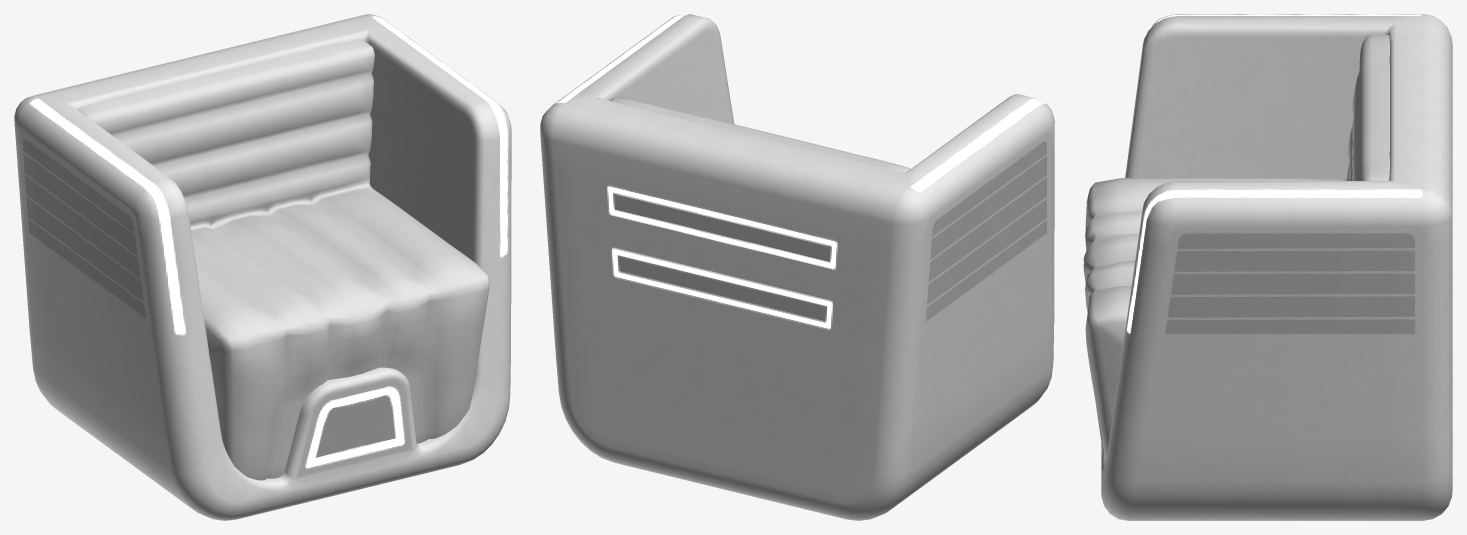
File: Sofa06_2.FBX
3 renders of one model, left to right at view 1: azimuth 30°, elevation 25°; view 2: azimuth 150°, elevation 25°; view 3: azimuth 270°, elevation 25°, orthographic. The views are drawn at different scales.
Parts seen in each view (by area): view 1: Sofa06_2; view 2: Sofa06_2; view 3: Sofa06_2.
Boxes of the visible parts, box(x1,y1,x2,y2) form: Sofa06_2: box(14, 14, 511, 520); Sofa06_2: box(540, 14, 1054, 520); Sofa06_2: box(1083, 14, 1452, 520).
Size of what is drawn, in the model's own units: 1.16 by 0.9862 by 0.9298.
